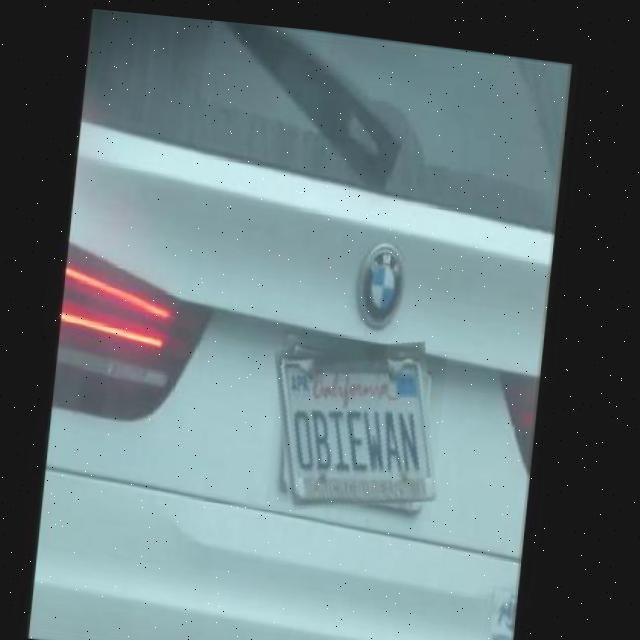LicensePlate: (272, 322, 452, 512)
